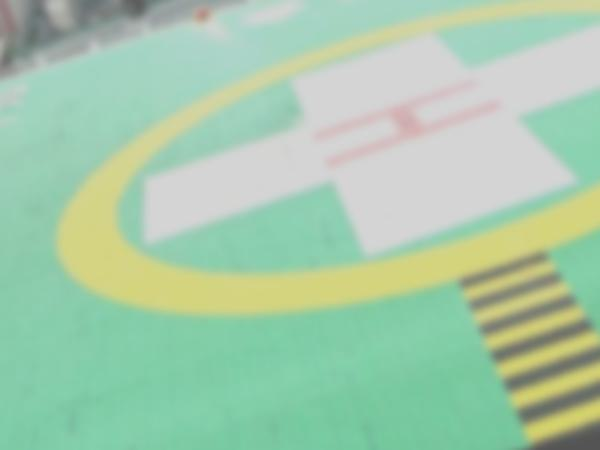Apron: (50, 1, 599, 323)
